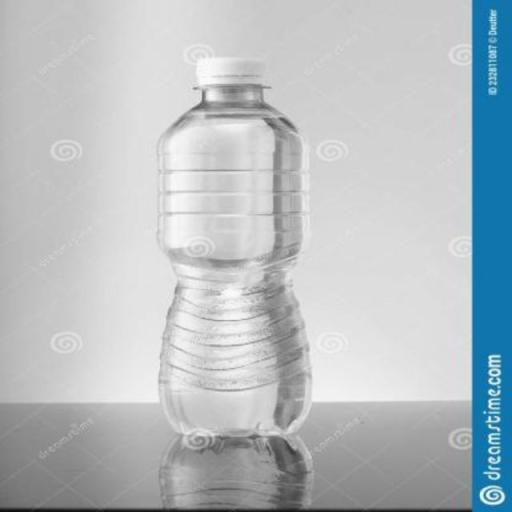Coca: (146, 46, 322, 454)
